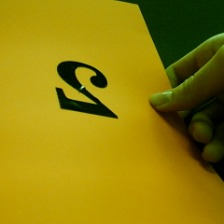orange2: (55, 55, 125, 125)
